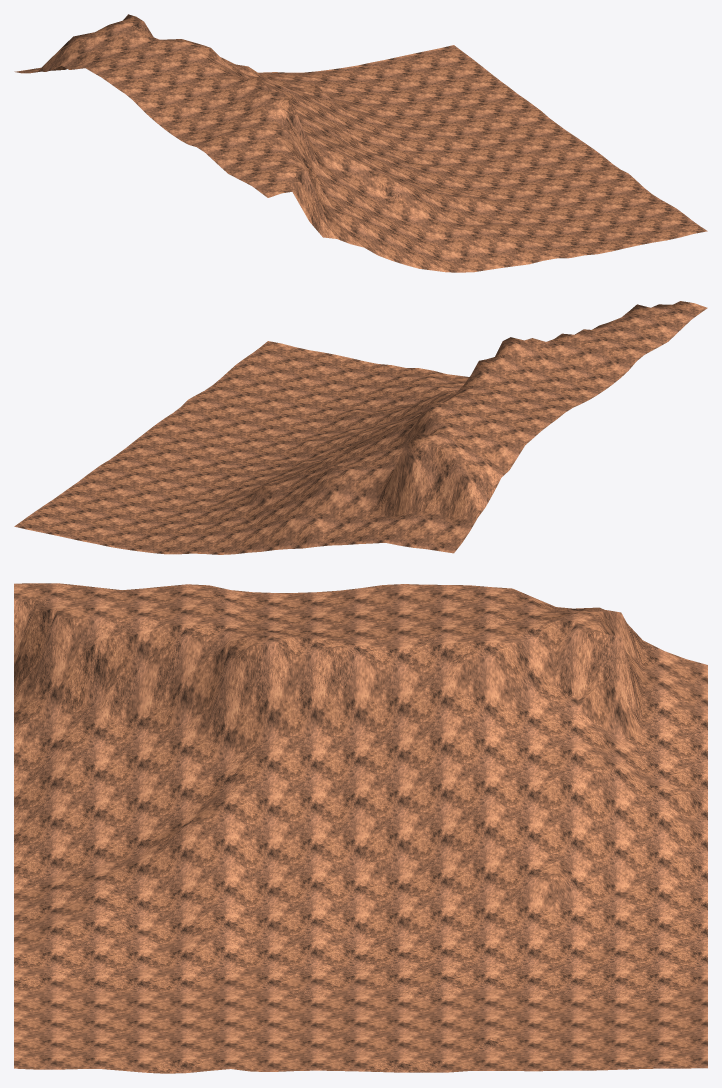
The model's file is terrain_01_14.dae.
The picture shows the model from 3 angles, top to bottom: view 1: azimuth 30°, elevation 25°; view 2: azimuth 150°, elevation 25°; view 3: azimuth 270°, elevation 25°; orthographic projection. The views are drawn at different scales.
Parts seen in each view (by area): view 1: terrain_01_14-node; view 2: terrain_01_14-node; view 3: terrain_01_14-node.
Part boxes in pixels (left/top/right/bottom): terrain_01_14-node: left=14, top=14, right=707, bottom=272; terrain_01_14-node: left=14, top=301, right=707, bottom=554; terrain_01_14-node: left=14, top=583, right=707, bottom=1073.
Size of the model in its own units: 128 by 128 by 42.76.
Materials: 1 (1 with a texture image).
